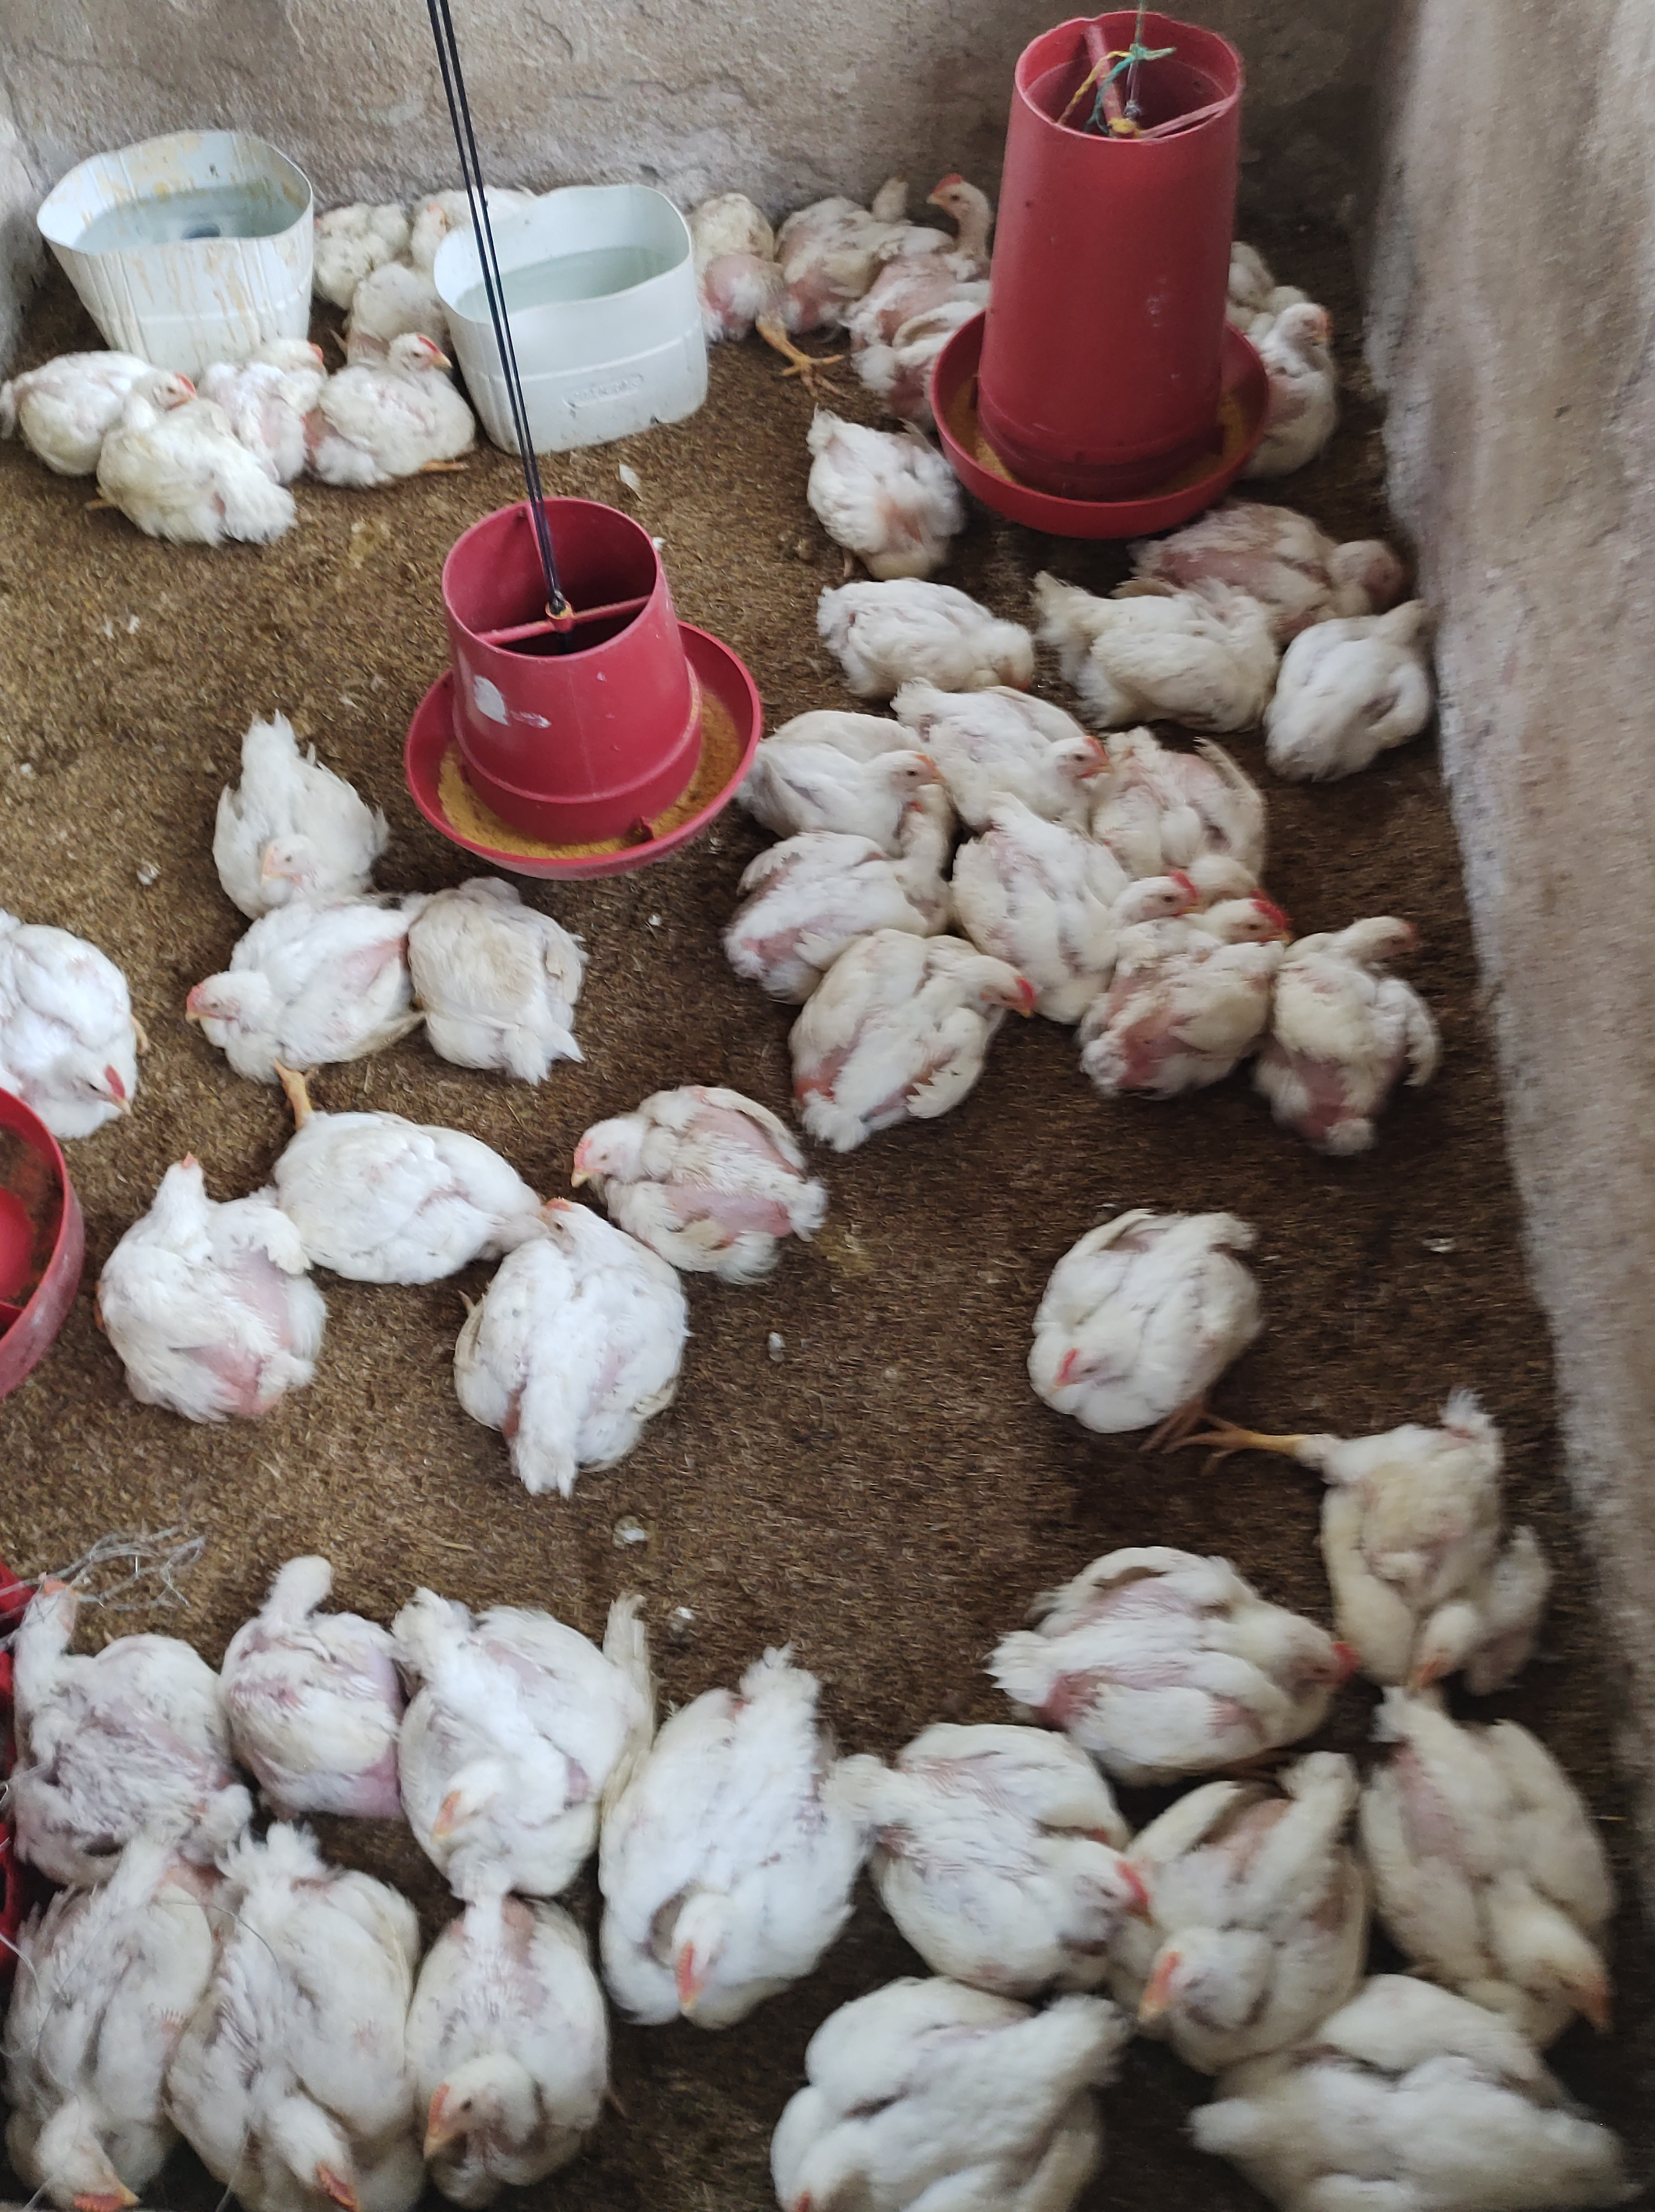Pollos: (622, 1652, 907, 2003), (1186, 1998, 1639, 2212), (777, 1986, 1135, 2212), (1373, 1697, 1629, 2000), (202, 1878, 433, 2212), (1113, 1739, 1358, 2042), (1036, 1529, 1340, 1756), (391, 1577, 602, 1899), (1344, 1402, 1568, 1702), (468, 1198, 685, 1506), (1014, 1202, 1293, 1435), (888, 1716, 1128, 1972), (403, 1932, 622, 2203), (12, 1869, 181, 2212), (101, 1153, 322, 1414), (257, 1064, 523, 1278), (544, 1076, 829, 1263), (410, 859, 629, 1090), (9, 1574, 223, 1810), (800, 934, 1038, 1146), (169, 875, 410, 1082), (233, 1534, 412, 1781), (1288, 903, 1464, 1118), (85, 395, 316, 556), (718, 682, 937, 852), (1274, 586, 1452, 783), (1107, 894, 1283, 1092), (775, 565, 1041, 696), (746, 786, 951, 943), (0, 916, 144, 1134), (1130, 501, 1429, 605), (928, 668, 1114, 831), (1073, 576, 1259, 734), (228, 727, 395, 896), (812, 395, 965, 576), (1248, 268, 1353, 480), (337, 318, 489, 459), (786, 148, 911, 311), (676, 177, 786, 351), (1062, 810, 1203, 943), (23, 353, 195, 456), (304, 177, 419, 315), (918, 163, 996, 275)
